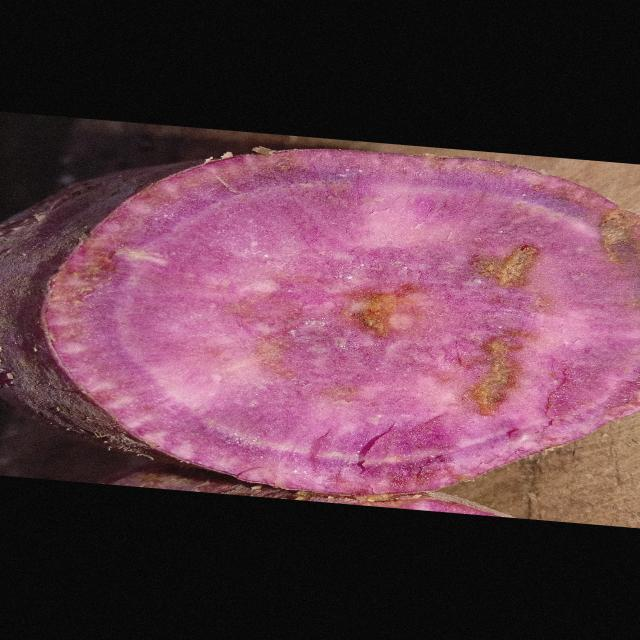Sick Sweet Potato_Tuber Rot: (44, 150, 638, 494)
